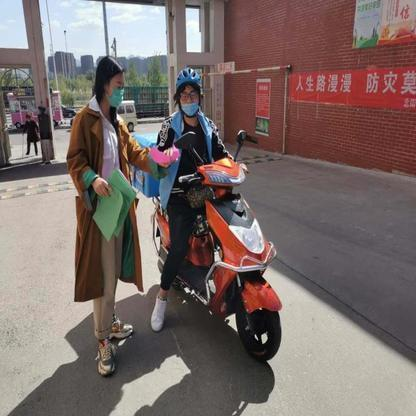target: (147, 66, 286, 364)
